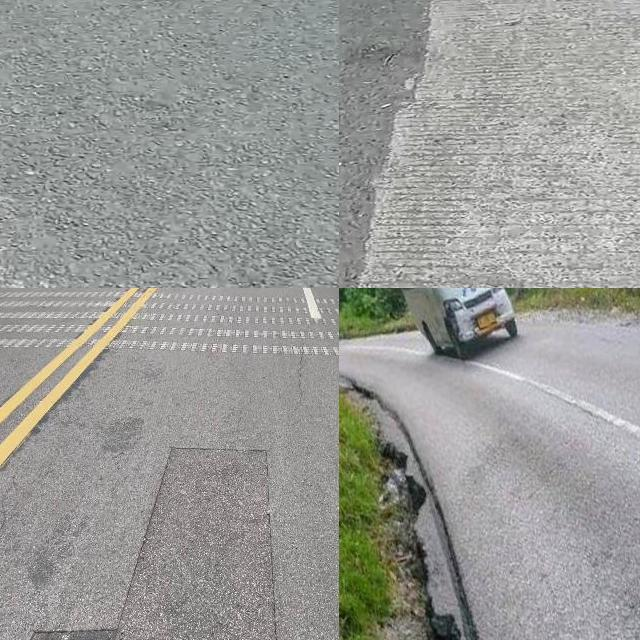Pinggir: (348, 381, 499, 640)
Sambungan: (357, 0, 640, 288), (31, 450, 276, 640)
